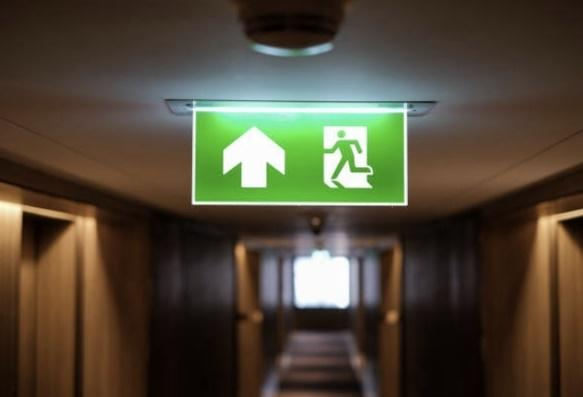emergency_exit: (189, 102, 409, 207)
